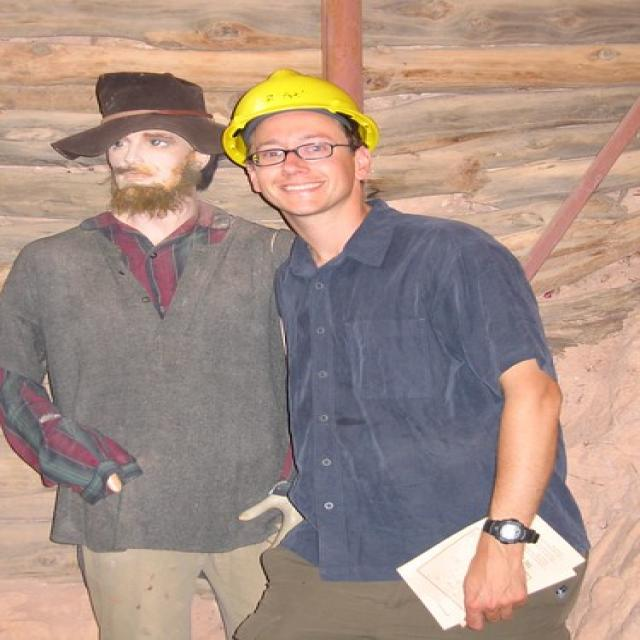Safety-Helmet: (218, 64, 386, 160)
